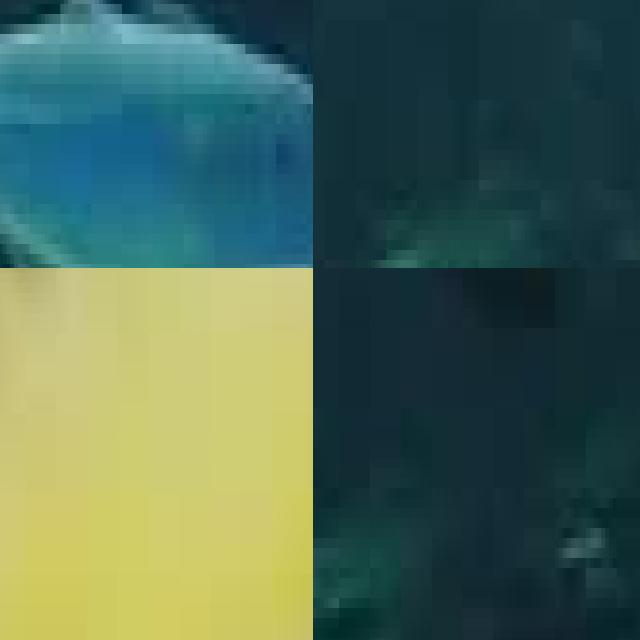fish: (0, 0, 313, 268), (313, 268, 640, 358)
